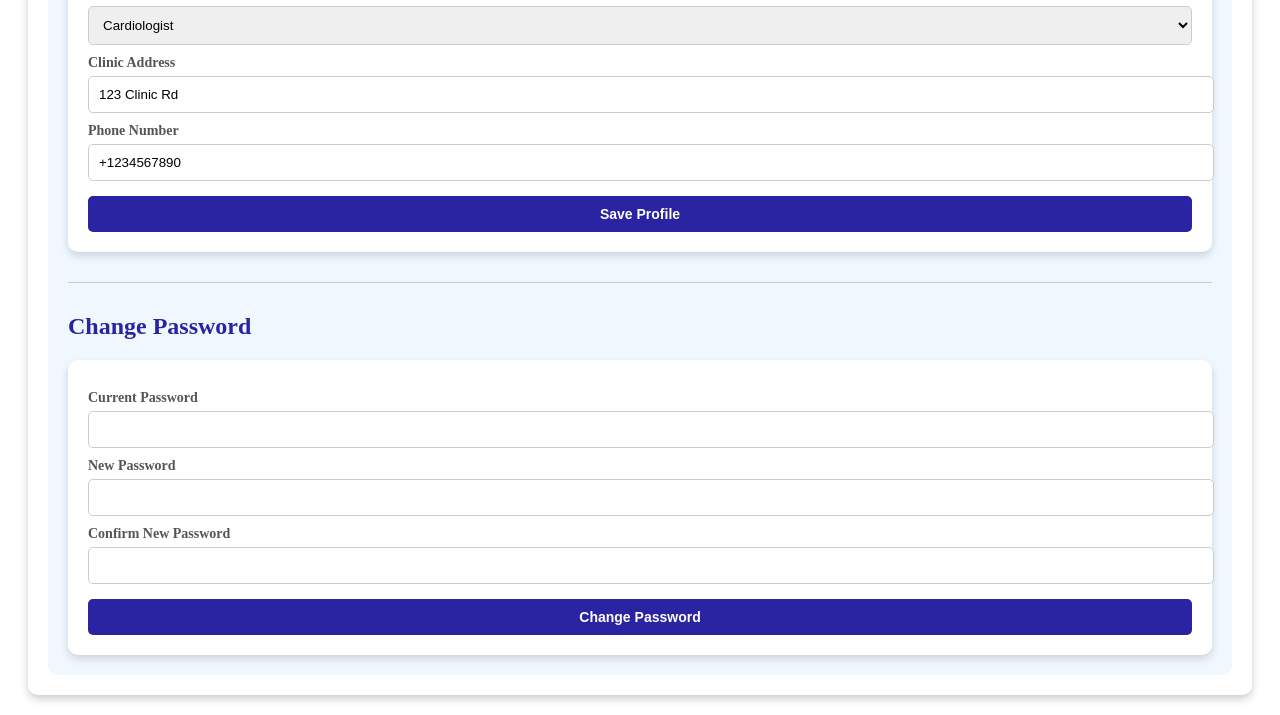
Doctor Profile Page › Change Password › shows error when current password is incorrect
This screenshot has width=1280, height=715.
(page scrolled)
Type "wrongPass" into the password field with test id "current-password" at (651, 430), box x1=88 y1=411 x2=1214 y2=448
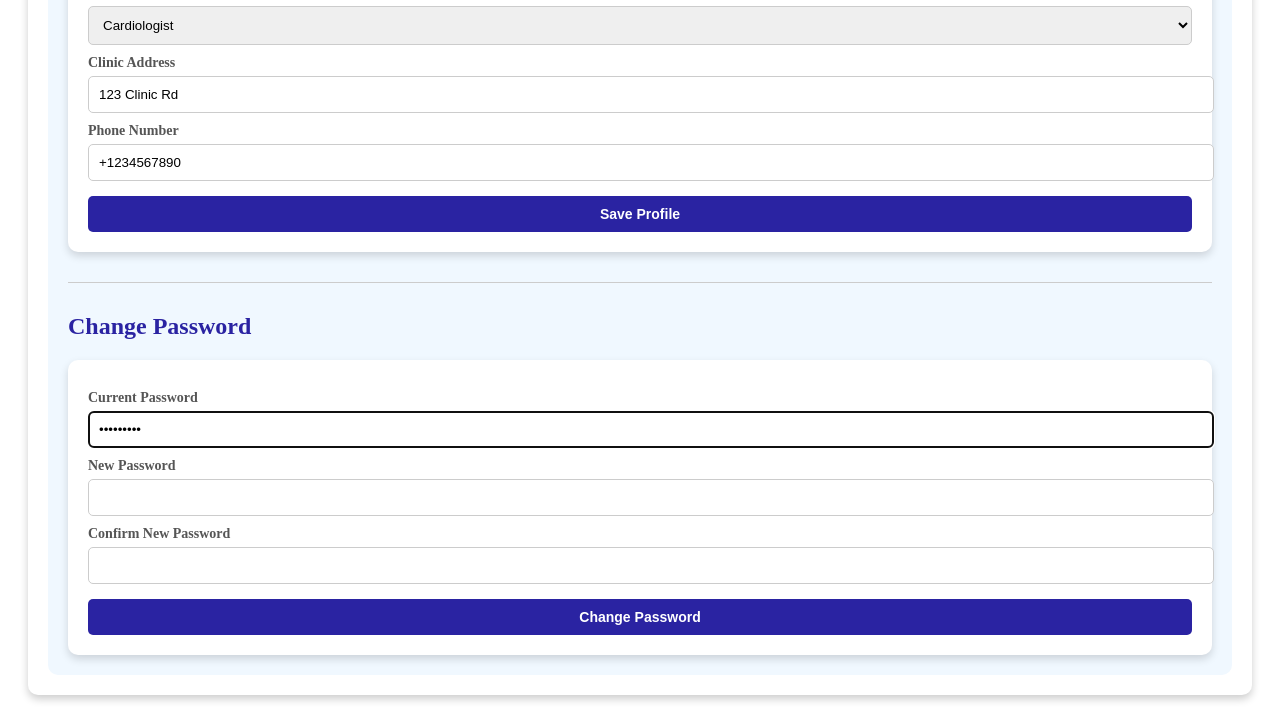
Type "NewPass123" into the password field with test id "new-password-input" at (651, 498), box x1=88 y1=479 x2=1214 y2=516
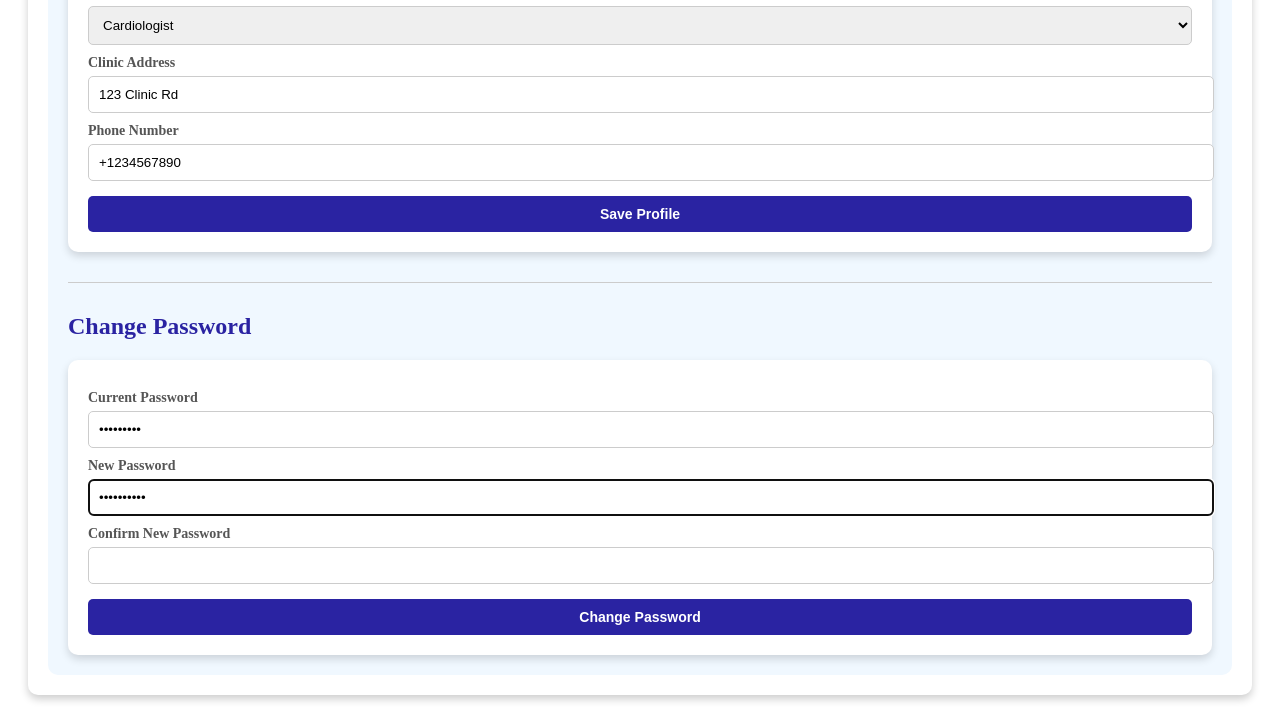
Type "NewPass123" into the password field with test id "confirm-new-password-input" at (651, 566), box x1=88 y1=547 x2=1214 y2=584
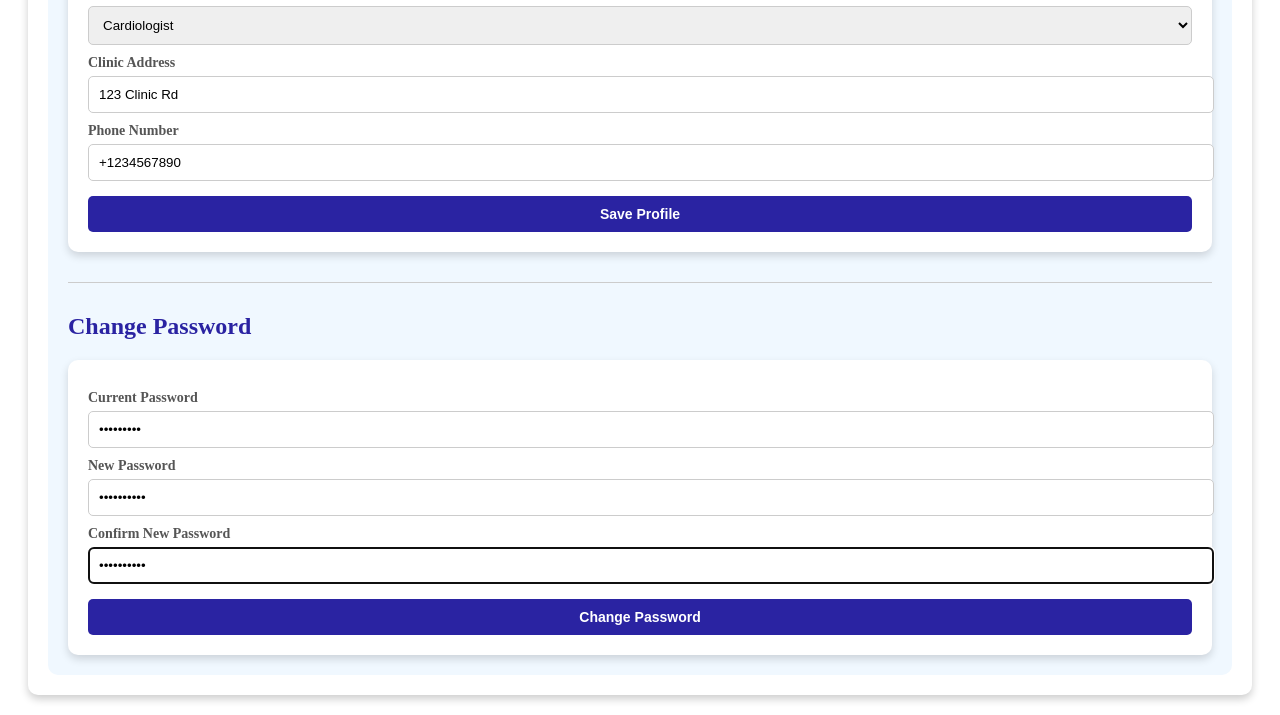
Click the button with test id "chngpass" at (640, 617), box x1=88 y1=599 x2=1192 y2=635
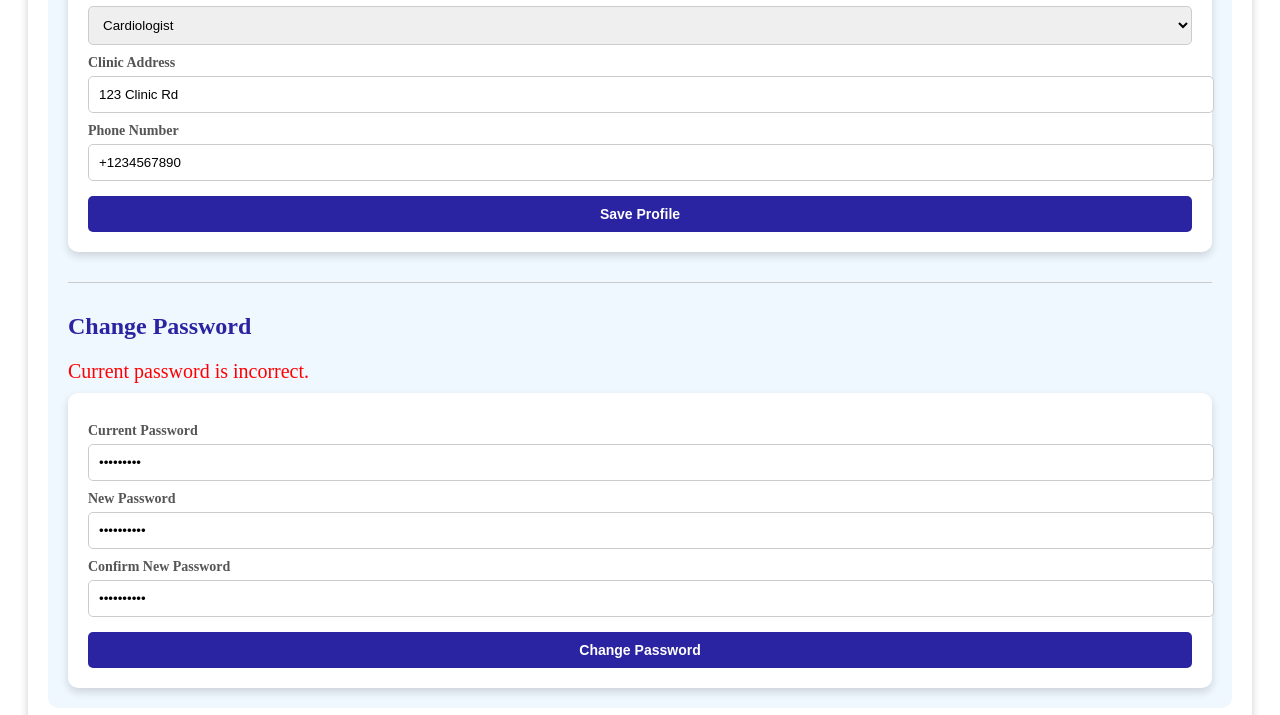
Expected: the text "Current password is incorrect." is shown, x1=68 y1=360 x2=309 y2=382
